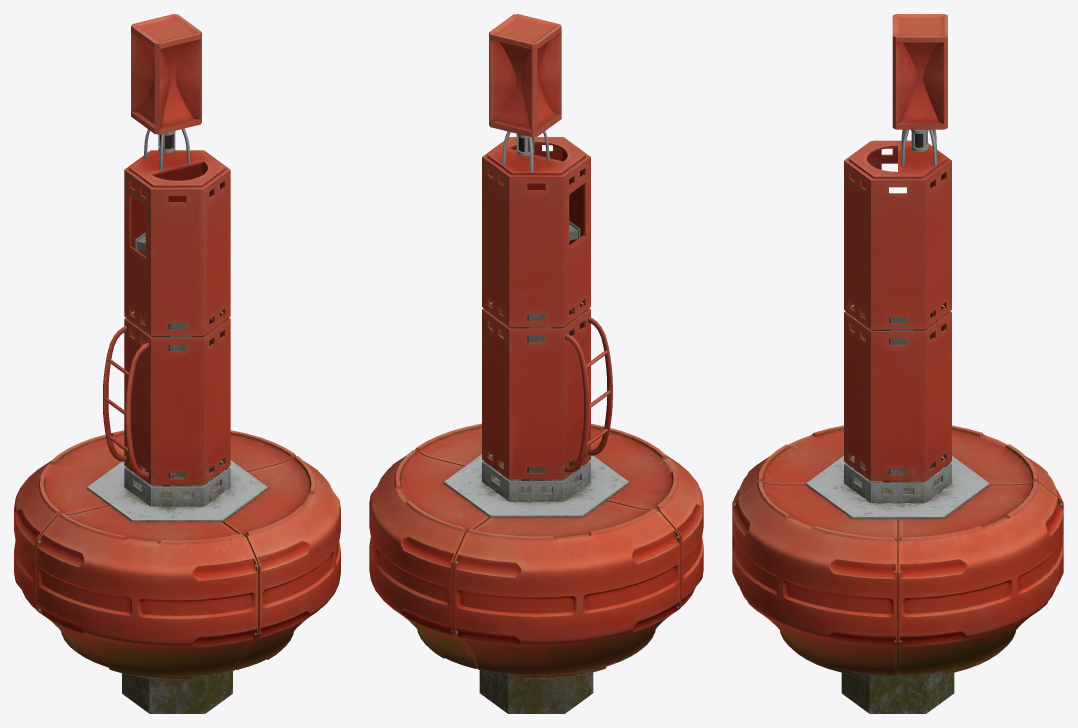
File: lateral_sea_marker.glb
The picture shows the model from 3 angles, left to right: view 1: azimuth 30°, elevation 25°; view 2: azimuth 150°, elevation 25°; view 3: azimuth 270°, elevation 25°; orthographic projection. The views are drawn at different scales.
Visible parts, largest first — view 1: lateral_sea_marker; view 2: lateral_sea_marker; view 3: lateral_sea_marker.
Part boxes in pixels (x1,y1,x2,y2): lateral_sea_marker: [14, 14, 340, 713]; lateral_sea_marker: [369, 14, 703, 713]; lateral_sea_marker: [732, 14, 1063, 713].
Bounding box in the file's own units: 3 × 6.84 × 3.
Materials: 1 (1 with a texture image).
